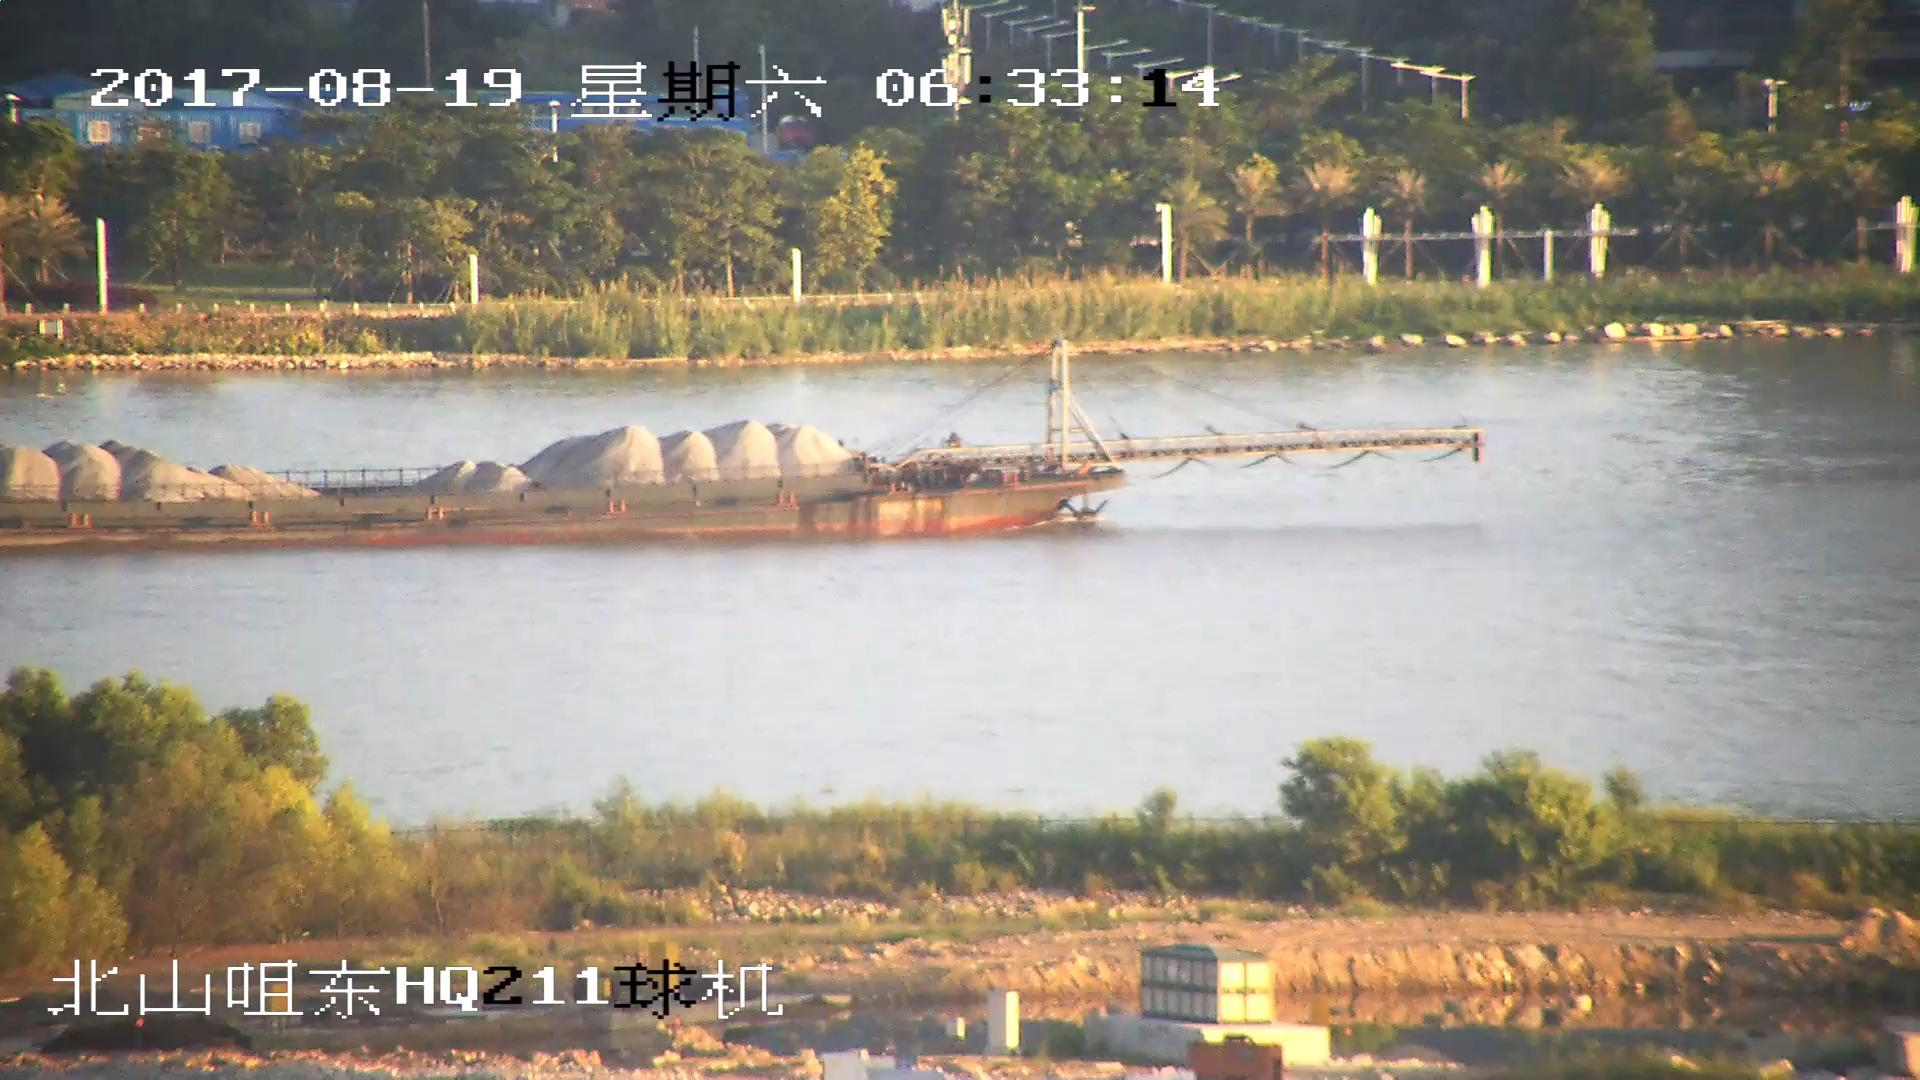Ship: (3, 340, 1487, 558)
